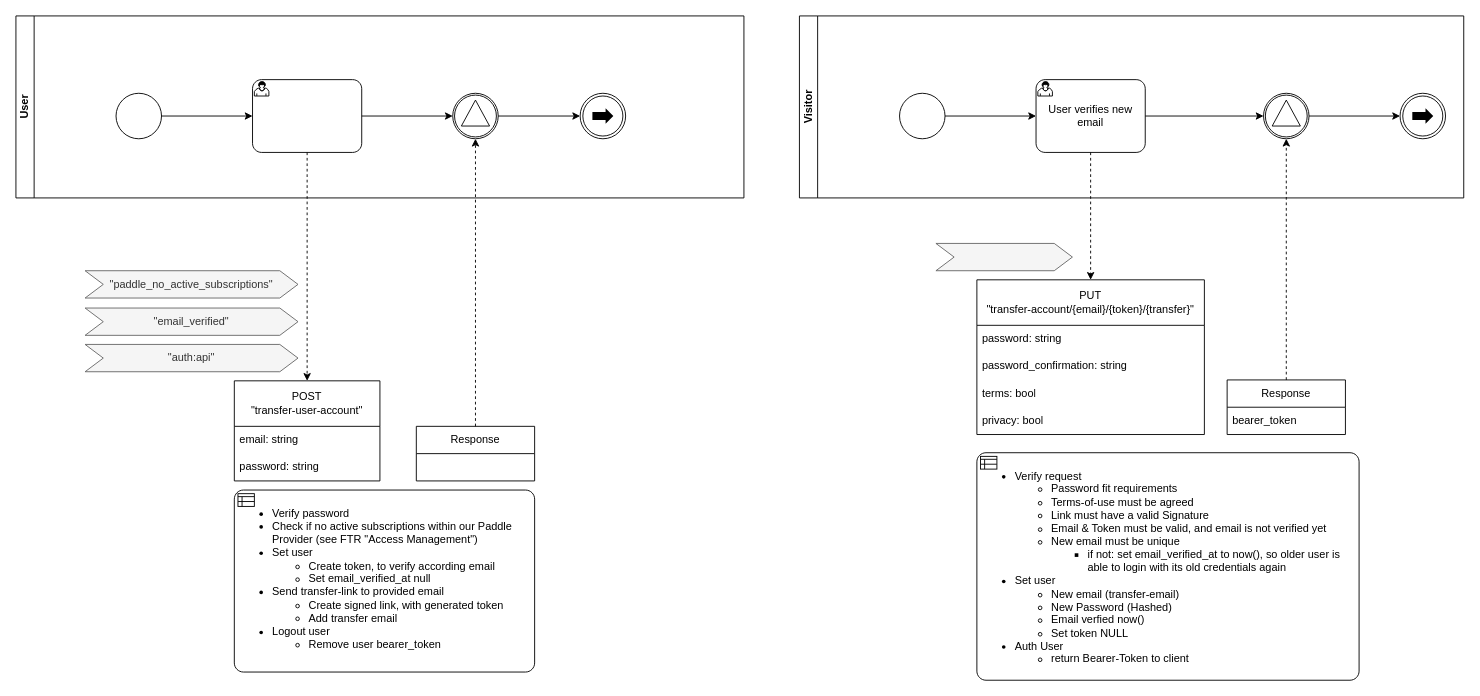
Image size: 1480x696. Some labels were removed from this diagram. Each missing label, with the centre of its shape:
"/account/settings": pixel 138 115
"/transfer-account/:email/:key/:transfer": pixel 922 115
"throttle: 5,1": pixel 1003 257
auth(): pixel 1422 115
logout(): pixel 602 115
User requests transferring account to new email: pixel 307 115
